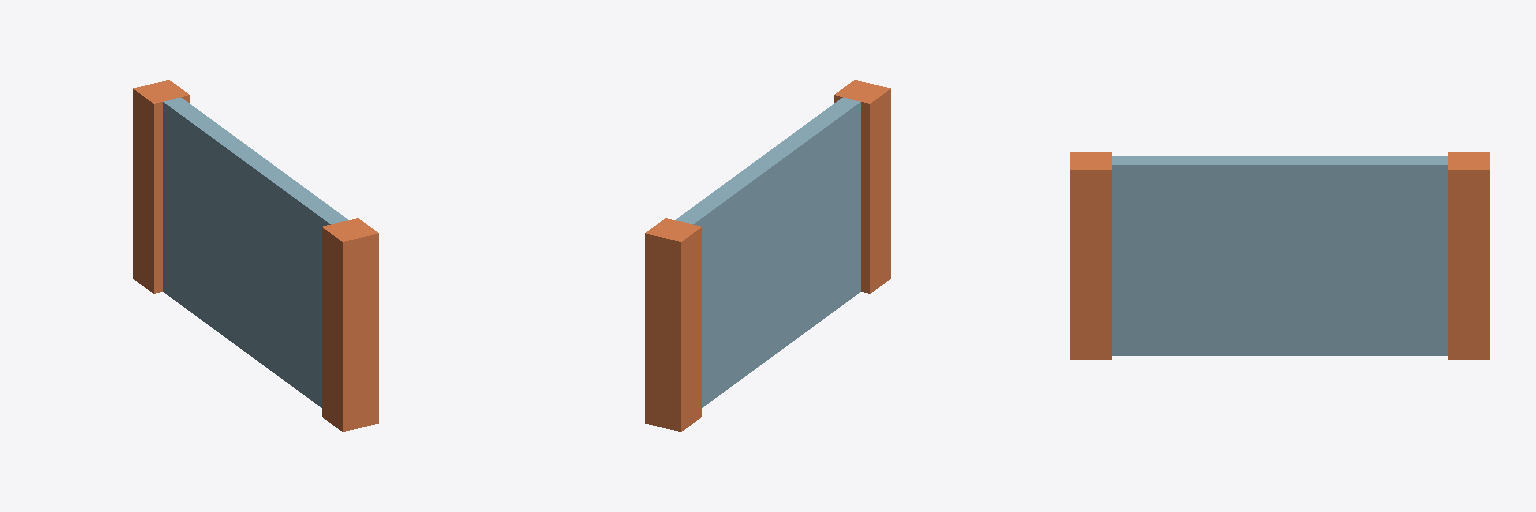
File: wallHalf.obj
The picture shows the model from 3 angles: view 1: azimuth 30°, elevation 25°; view 2: azimuth 150°, elevation 25°; view 3: azimuth 270°, elevation 25°; orthographic projection.
Visible parts, largest first — view 1: wallHalf; view 2: wallHalf; view 3: wallHalf.
Part boxes in pixels (x1,y1,x2,y2): wallHalf: (133, 80, 378, 431); wallHalf: (645, 80, 890, 431); wallHalf: (1070, 152, 1489, 359).
Size of the model in its own units: 0.1 by 0.5 by 1.